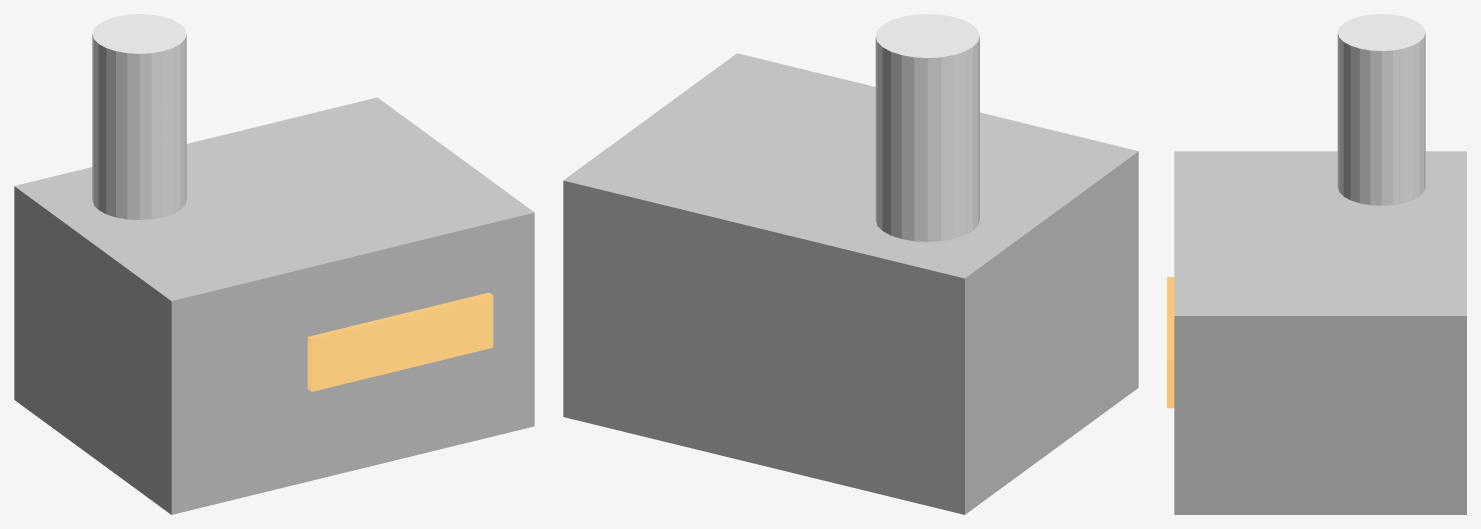
File: reference-machine-mesh.glb
3 views of the same model, side by side, from view 1: azimuth 30°, elevation 25°; view 2: azimuth 150°, elevation 25°; view 3: azimuth 270°, elevation 25° (orthographic). The views are drawn at different scales.
Parts seen in each view (by area): view 1: ref-body, ref-chimney, ref-vent; view 2: ref-body, ref-chimney; view 3: ref-body, ref-chimney, ref-vent.
Part boxes in pixels (x1=…): ref-body: x1=14, y1=97, x2=534, y2=514; ref-chimney: x1=92, y1=14, x2=186, y2=220; ref-vent: x1=307, y1=292, x2=493, y2=391; ref-body: x1=563, y1=53, x2=1138, y2=514; ref-chimney: x1=875, y1=14, x2=979, y2=241; ref-body: x1=1174, y1=151, x2=1466, y2=514; ref-chimney: x1=1337, y1=14, x2=1425, y2=205; ref-vent: x1=1167, y1=277, x2=1174, y2=408.
Bounding box in the file's own units: 1.6 × 1.6 × 1.23.
